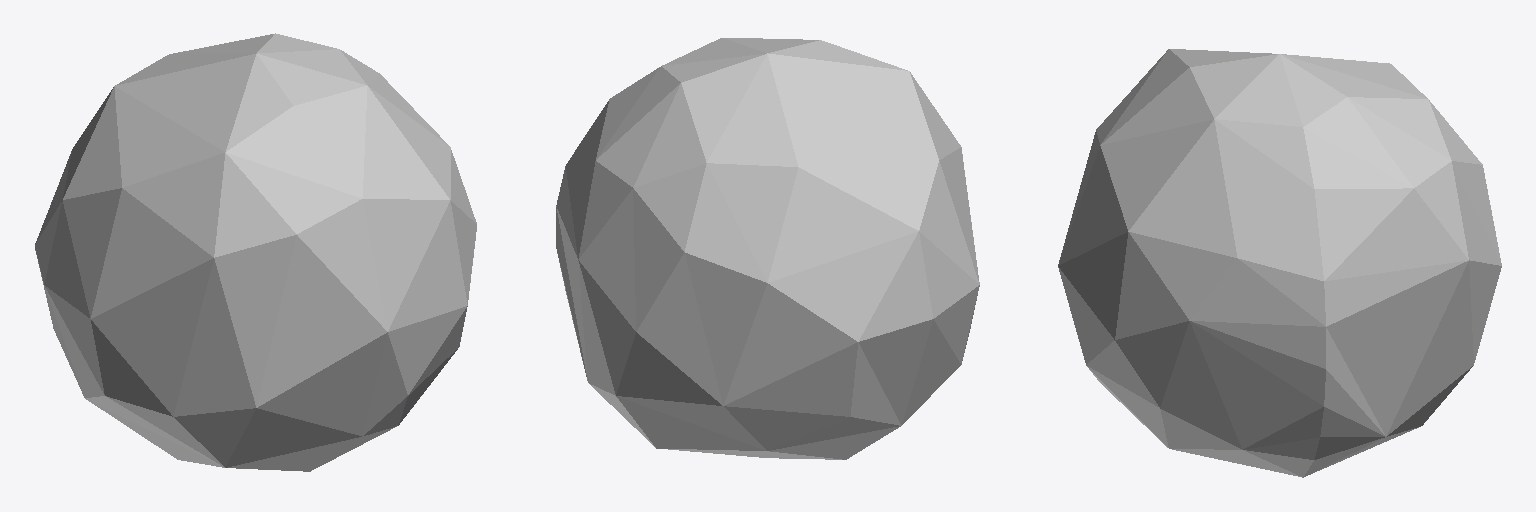
Rendered from Sun_v1_001.obj.
The picture shows the model from 3 angles: view 1: azimuth 30°, elevation 25°; view 2: azimuth 150°, elevation 25°; view 3: azimuth 270°, elevation 25°; orthographic projection.
Visible parts, largest first — view 1: Style_Sun_v1_001; view 2: Style_Sun_v1_001; view 3: Style_Sun_v1_001.
Boxes of the visible parts, <box> form: Style_Sun_v1_001: <box>35,33,476,471</box>; Style_Sun_v1_001: <box>556,38,979,459</box>; Style_Sun_v1_001: <box>1058,49,1501,477</box>.
Size of the model in its own units: 7.88 by 8.08 by 8.04.